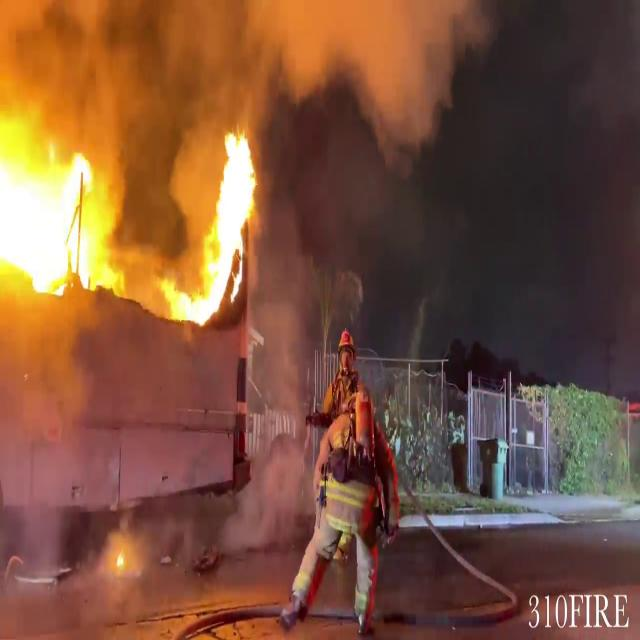Fire: (163, 122, 263, 338), (0, 125, 115, 303)
Smoke: (8, 0, 459, 173)
